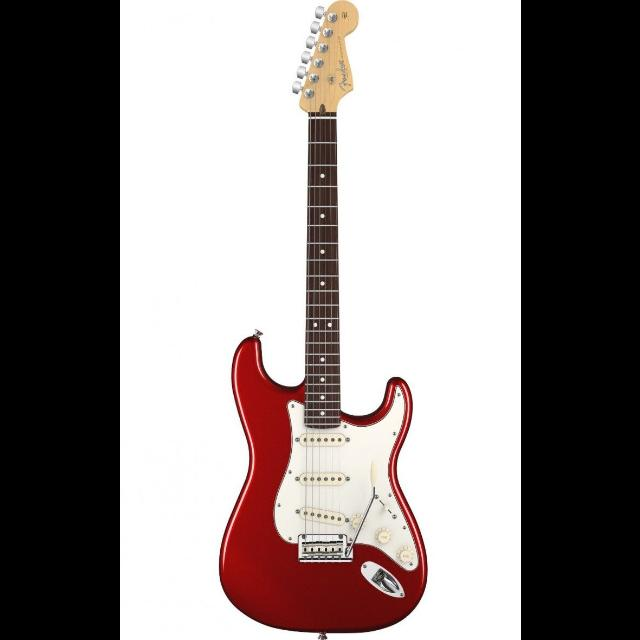Electric-Guitar: (166, 2, 457, 628)
